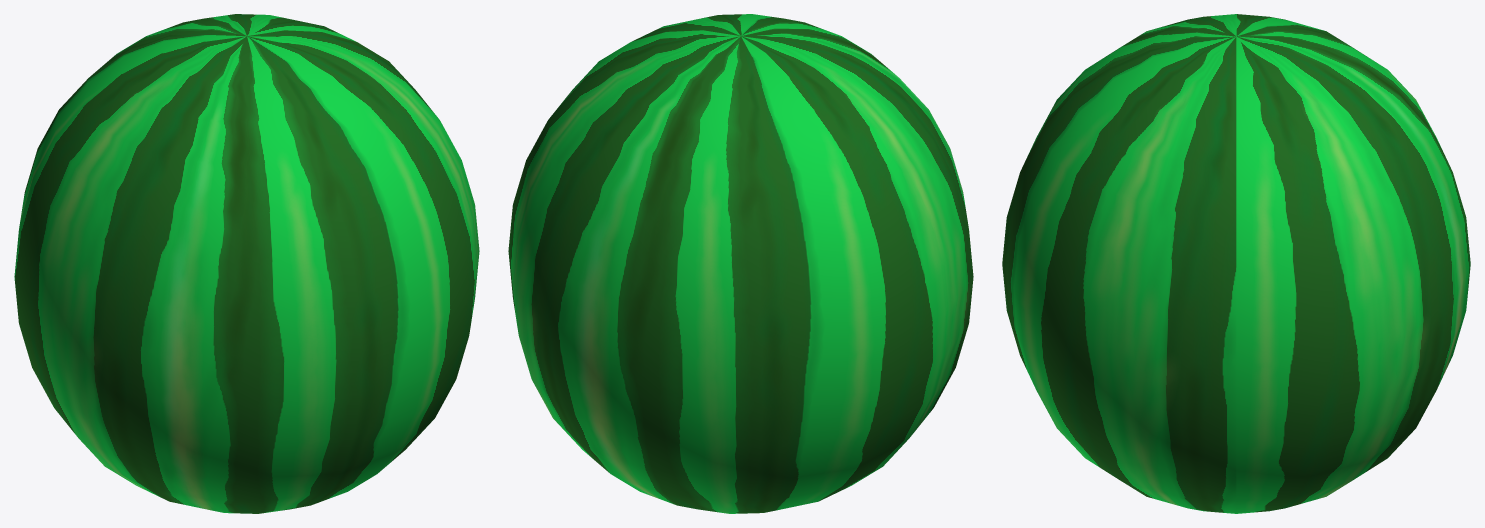
File: Melon_000000.obj
The picture shows the model from 3 angles, left to right: view 1: azimuth 30°, elevation 25°; view 2: azimuth 150°, elevation 25°; view 3: azimuth 270°, elevation 25°; orthographic projection.
Parts seen in each view (by area): view 1: Melon_low_Sphere; view 2: Melon_low_Sphere; view 3: Melon_low_Sphere.
Boxes of the visible parts, <box> form: Melon_low_Sphere: <box>14,14,479,513</box>; Melon_low_Sphere: <box>508,14,973,513</box>; Melon_low_Sphere: <box>1002,14,1470,513</box>.
Bounding box in the file's own units: 2 × 2.14 × 2.
